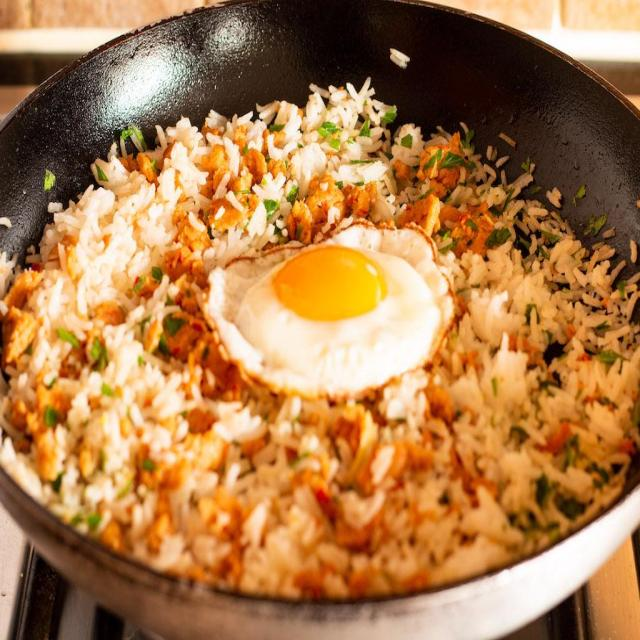Nasi Goreng: (2, 76, 637, 598)
